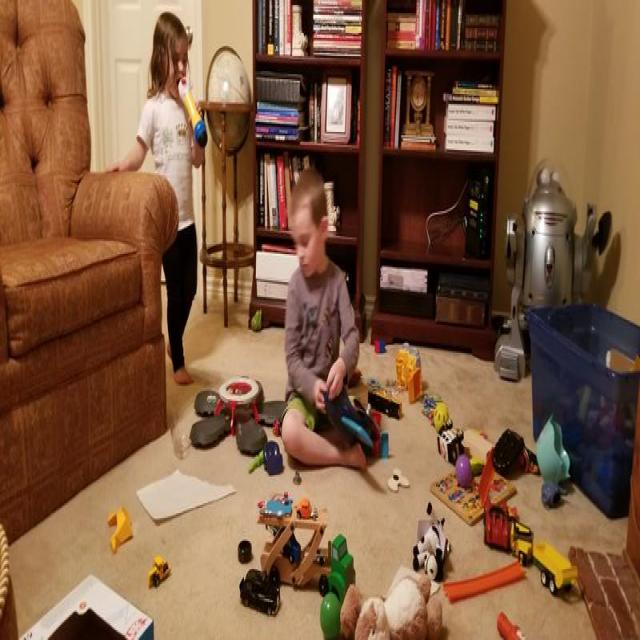toy: (510, 498, 580, 604), (409, 508, 446, 586), (447, 562, 528, 594), (484, 469, 507, 556), (397, 343, 426, 404), (107, 504, 136, 558), (441, 419, 468, 477), (257, 484, 295, 520), (143, 550, 174, 591), (496, 603, 528, 640), (427, 400, 452, 446), (372, 384, 401, 422), (294, 490, 320, 527), (320, 595, 340, 640), (264, 433, 282, 473), (374, 334, 389, 364), (251, 307, 264, 341), (249, 447, 264, 473)
